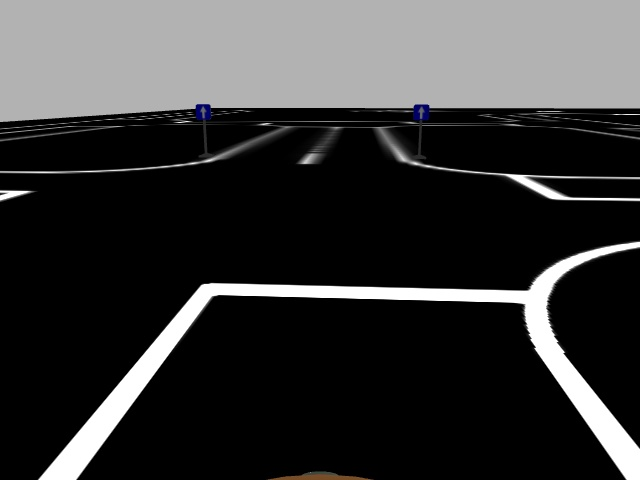oneway: (411, 102, 432, 124), (194, 102, 213, 122)
